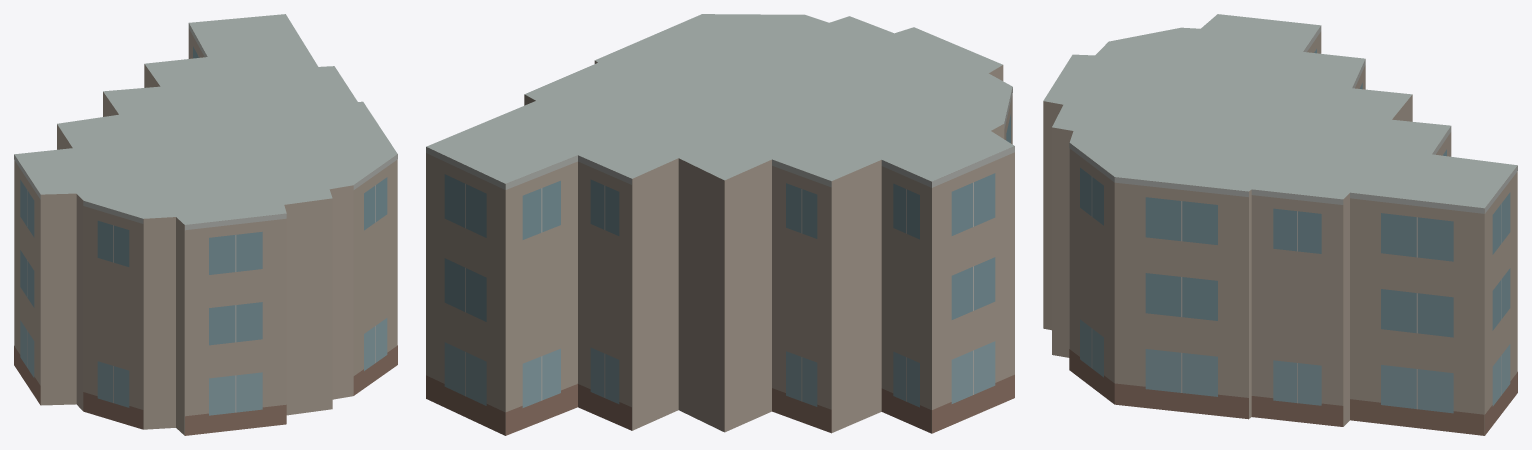
The model's file is survey-upis-32565098.glb.
3 views of the same model, side by side, from view 1: azimuth 30°, elevation 25°; view 2: azimuth 150°, elevation 25°; view 3: azimuth 270°, elevation 25° (orthographic). The views are drawn at different scales.
Visible parts, largest first — view 1: survey-upis-32565098.tmp; view 2: survey-upis-32565098.tmp; view 3: survey-upis-32565098.tmp.
Boxes of the visible parts, x1,y1,x2,y2 form: survey-upis-32565098.tmp: (14, 14, 397, 435); survey-upis-32565098.tmp: (426, 14, 1014, 435); survey-upis-32565098.tmp: (1043, 14, 1517, 435).
Bounding box in the file's own units: 17.95 × 9.8 × 18.53.
